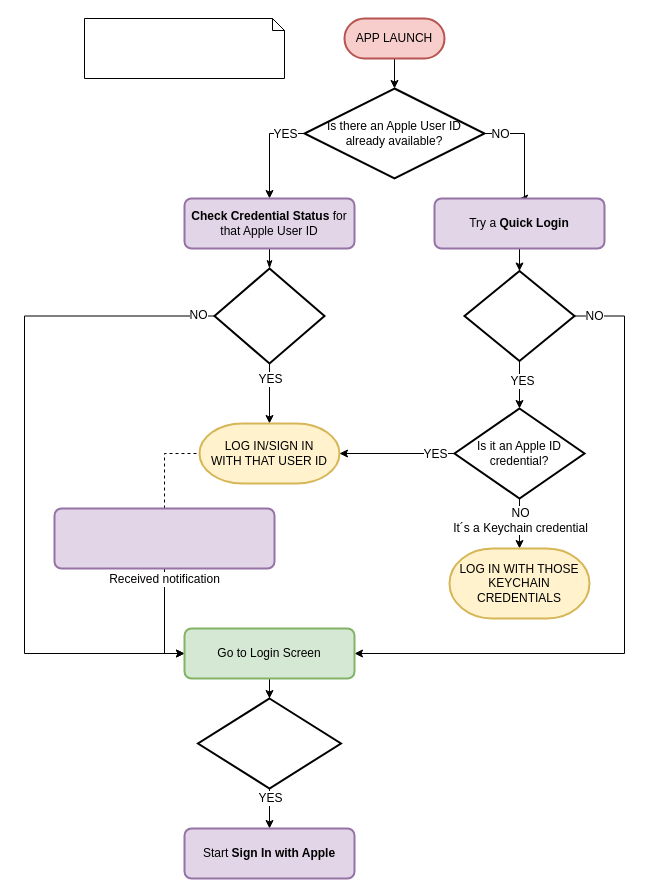
Image size: 650x896. Some labels were removed from this diagram. The shapes that lost their labels are listed below. From the top down, each one's centre as x and y in pixels, then its label:
At (184,48): "Approximate flow infered from the official Apple example.".
At (269,315): "Is the status Authotized?".
At (519,316): "Did you receive a credential?".
At (164,538): "<Optional> Set the callback to listen to Credentials Revoked Notifications".
At (269,743): "Did the user select Sign In with Apple?".
